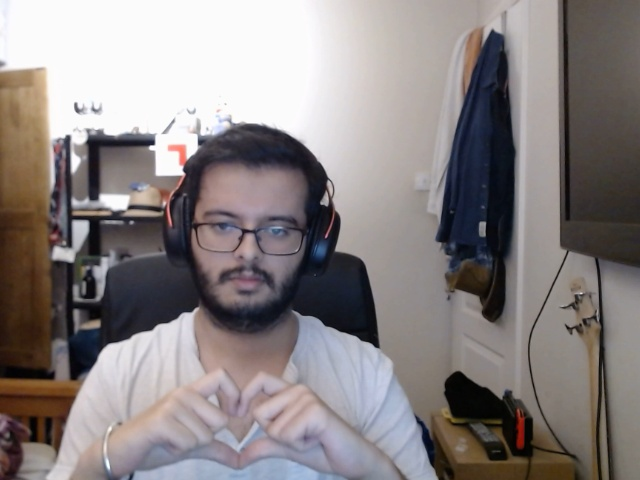Heart: (100, 363, 388, 476)
